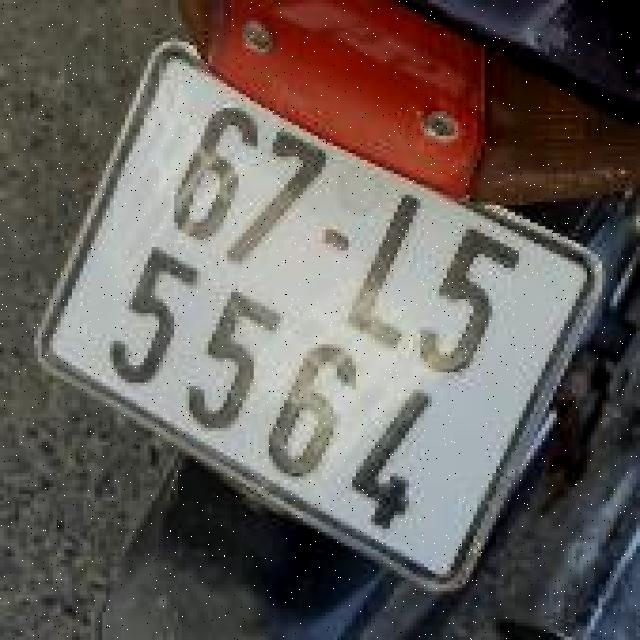4: (333, 373, 477, 546)
5: (407, 214, 536, 390), (166, 275, 297, 447), (90, 232, 218, 399)
6: (250, 328, 377, 492), (154, 93, 277, 254)
7: (214, 123, 341, 273)
L: (331, 181, 467, 366)
